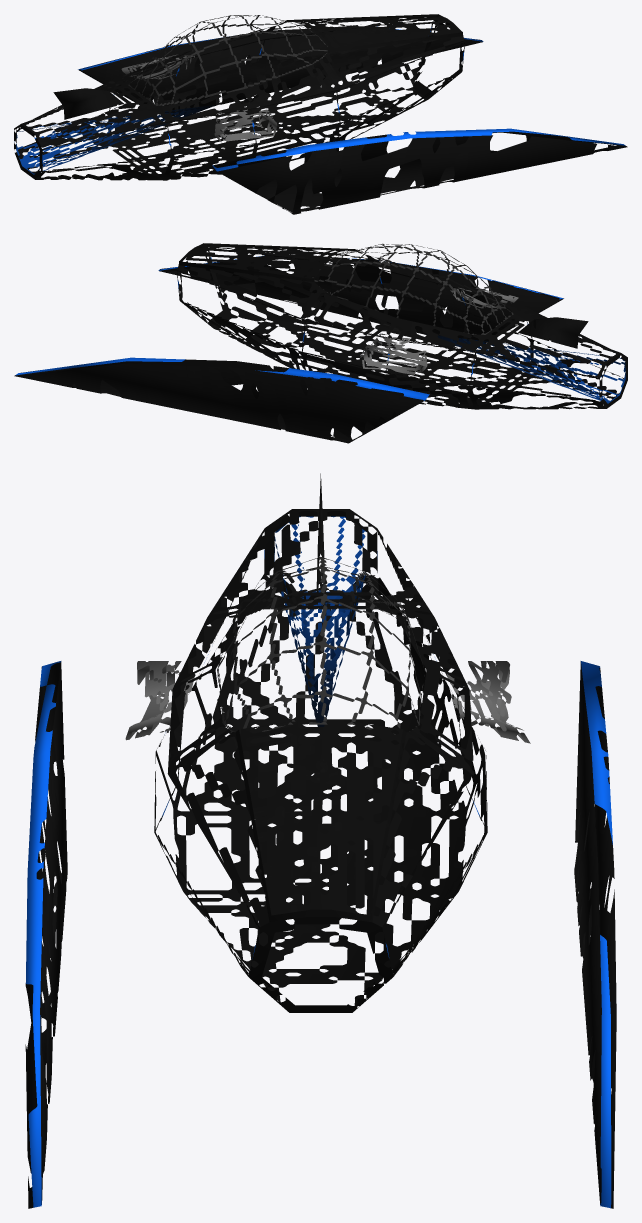
File: PersonalSpaceShip.FBX
The picture shows the model from 3 angles, top to bottom: view 1: azimuth 30°, elevation 25°; view 2: azimuth 150°, elevation 25°; view 3: azimuth 270°, elevation 25°; orthographic projection. The views are drawn at different scales.
Parts seen in each view (by area): view 1: Box001; view 2: Box001; view 3: Box001.
Part boxes in pixels (left/top/right/bottom): Box001: left=14, top=14, right=627, bottom=214; Box001: left=14, top=243, right=627, bottom=443; Box001: left=25, top=473, right=616, bottom=1208.
Bounding box in the file's own units: 240 × 67.01 × 117.
